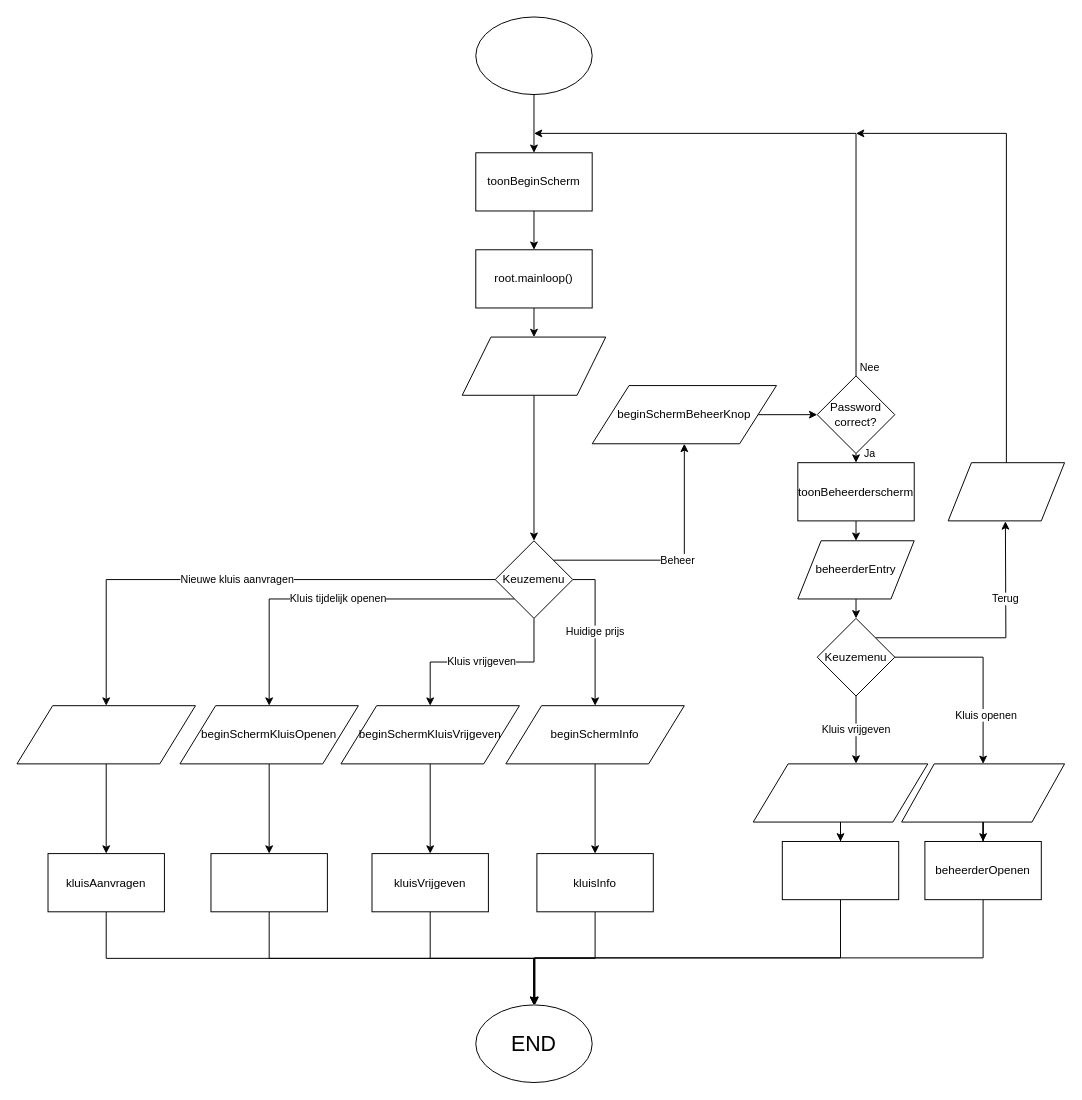
Some shapes in this 1082 by 1100 pixel diagram are drawn without their labels. The shapes that lost their labels are listed below. From the top down, each one's box as (x1, y1, x2, y2) in pixels, then its label:
(475, 16, 592, 95): START
(461, 336, 606, 395): beginSchermEntry
(947, 462, 1065, 521): beheerderTerug
(16, 705, 195, 764): beginSchermNieuwKluis
(752, 763, 928, 822): beheerderKluisVrijgeven
(901, 763, 1065, 822): beheerderKluisOpenen
(210, 853, 327, 912): kluisOpenen
(781, 841, 899, 900): beheerderVrijgeven
